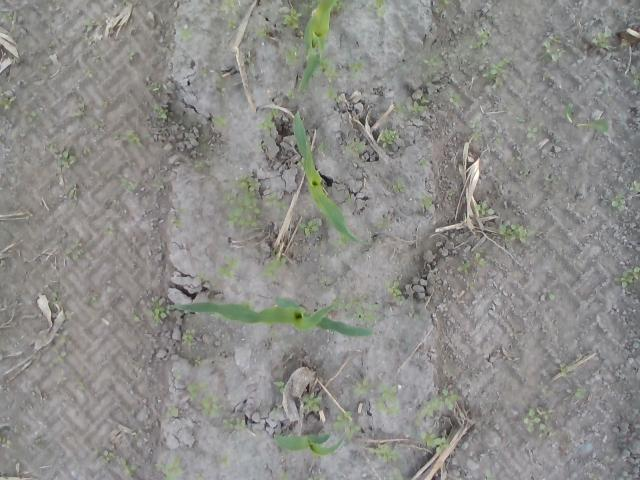Maize: (293, 108, 367, 245), (171, 294, 377, 340), (298, 0, 338, 95), (271, 432, 346, 457)
Weeds: (222, 175, 262, 229), (350, 375, 401, 417), (414, 388, 462, 426), (128, 286, 170, 327), (478, 57, 512, 97), (188, 379, 224, 416), (333, 294, 380, 321), (47, 136, 80, 170), (414, 54, 449, 86), (278, 0, 314, 28), (362, 442, 403, 464), (256, 252, 287, 280), (418, 426, 450, 453), (334, 410, 362, 440), (153, 454, 185, 480), (392, 94, 428, 117), (522, 406, 550, 434), (498, 222, 537, 242), (384, 274, 409, 305), (464, 25, 496, 49), (541, 32, 567, 61), (256, 108, 282, 136), (219, 0, 241, 31), (215, 254, 241, 279), (112, 126, 144, 146), (613, 264, 640, 287), (48, 330, 64, 368), (118, 456, 143, 480), (280, 44, 302, 68), (590, 30, 616, 50), (526, 118, 544, 146), (350, 55, 369, 81), (80, 16, 96, 46), (264, 191, 288, 210), (298, 217, 322, 236), (64, 238, 82, 263), (608, 190, 625, 216), (319, 55, 336, 81), (302, 390, 322, 412), (625, 63, 640, 92), (0, 86, 18, 110), (196, 270, 220, 288), (220, 416, 247, 432), (378, 126, 399, 146), (320, 86, 344, 103), (345, 136, 366, 155), (47, 286, 62, 312), (470, 246, 487, 268), (474, 199, 496, 216), (94, 446, 114, 464), (366, 0, 386, 18), (330, 0, 352, 16), (591, 119, 610, 137), (372, 214, 396, 228), (182, 328, 198, 349), (152, 102, 170, 120), (62, 184, 82, 200), (254, 25, 274, 40), (144, 80, 165, 94), (178, 25, 195, 42), (392, 176, 408, 194), (416, 191, 432, 209), (318, 274, 336, 290), (119, 176, 137, 192), (383, 467, 404, 480), (272, 377, 289, 393), (466, 113, 482, 130), (455, 256, 471, 272), (448, 89, 462, 107), (28, 110, 41, 129), (564, 99, 575, 121), (0, 435, 16, 450), (189, 352, 205, 367), (211, 112, 225, 128), (150, 174, 162, 192), (70, 110, 88, 122), (215, 450, 230, 464), (87, 118, 106, 129), (170, 215, 186, 228), (164, 404, 178, 418), (191, 158, 206, 170), (273, 469, 289, 480), (0, 14, 17, 24), (127, 49, 140, 62), (306, 473, 330, 480), (336, 234, 350, 246), (573, 388, 587, 400), (80, 68, 96, 78), (545, 289, 558, 301), (558, 364, 569, 378), (471, 131, 482, 145), (272, 403, 283, 416), (241, 298, 255, 308), (414, 312, 428, 322), (482, 471, 497, 480), (417, 158, 429, 169), (629, 180, 640, 192), (102, 224, 114, 235), (256, 142, 267, 154), (288, 88, 298, 100), (512, 152, 526, 160), (175, 206, 189, 214), (496, 134, 506, 145), (318, 143, 330, 152), (518, 168, 530, 177), (437, 0, 449, 9), (552, 135, 562, 145), (196, 471, 207, 480), (36, 63, 50, 70), (174, 370, 182, 380), (346, 194, 352, 206), (303, 206, 312, 214), (463, 211, 468, 220)
